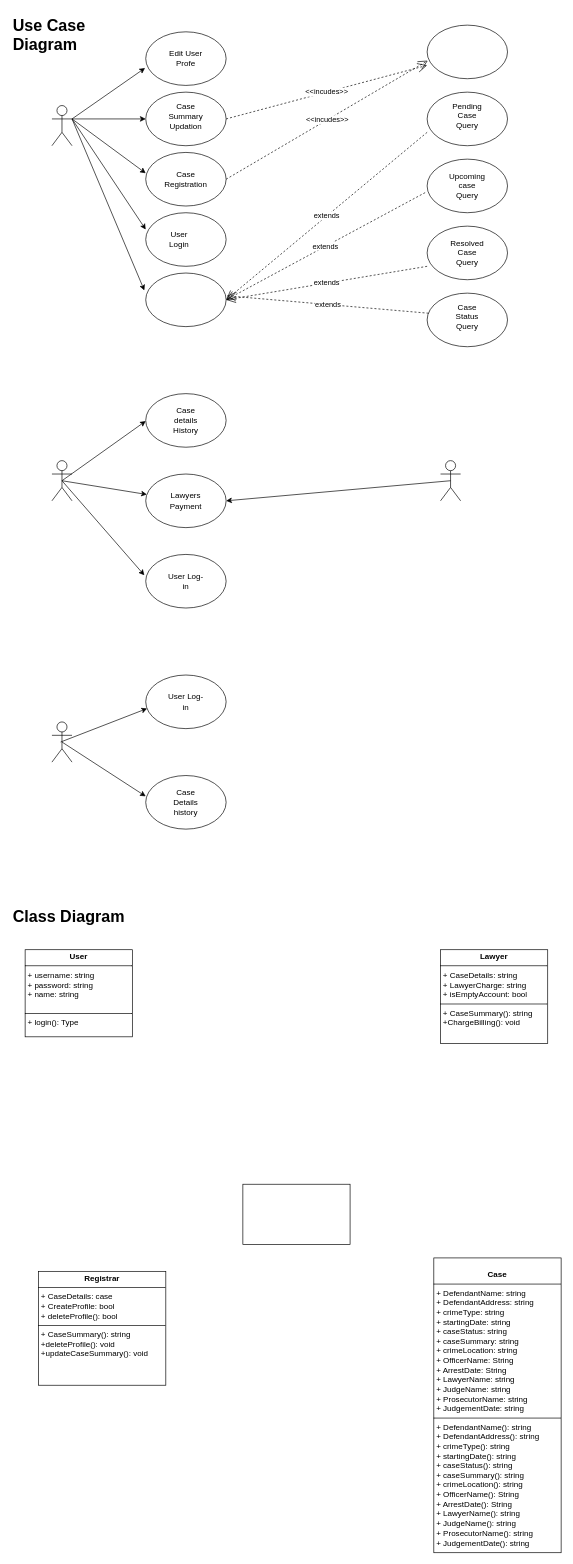
Image size: 573x1564. Some labels were removed from this diagram. Each missing label, with the centre of its shape:
"Billing System" belongs at [450,480].
"Date Assignment" belongs at [467,51].
"Judge" belongs at [61,741].
"Judge + CaseList: case + CaseDetails(): string" belongs at [296,1214].
"Lawyer" belongs at [61,480].
"Query Cases" belongs at [185,299].
"Registrar" belongs at [61,125].
